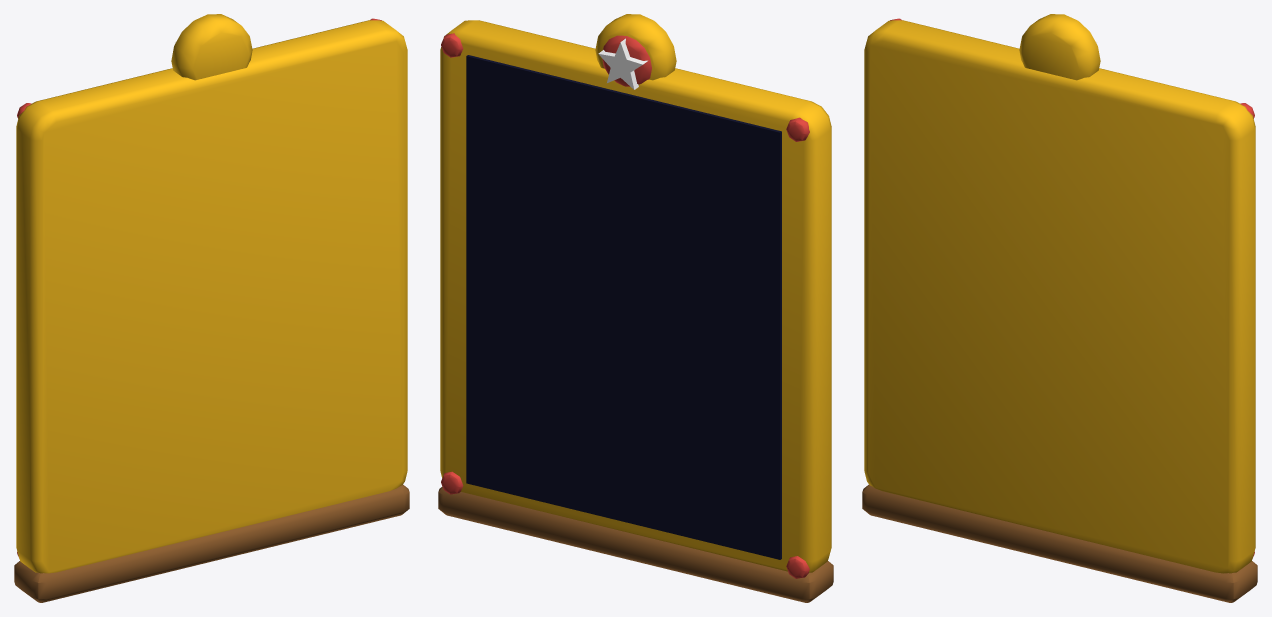
File: Hub_LeaderboardFrame.glb
3 renders of one model, left to right at view 1: azimuth 30°, elevation 25°; view 2: azimuth 150°, elevation 25°; view 3: azimuth 330°, elevation 25°, orthographic.
Parts seen in each view (by area): view 1: Frame_FFC21A, Base_8A5A2B; view 2: Face_0D0F2B, Frame_FFC21A, Base_8A5A2B, Crest_E0453C, Star_FFFFFF; view 3: Frame_FFC21A, Base_8A5A2B.
Part boxes in pixels (x1,y1,x2,y2): Frame_FFC21A: (16, 14, 407, 573); Base_8A5A2B: (14, 484, 409, 602); Face_0D0F2B: (466, 55, 781, 559); Frame_FFC21A: (440, 14, 831, 572); Base_8A5A2B: (438, 486, 833, 602); Crest_E0453C: (441, 33, 809, 578); Star_FFFFFF: (598, 38, 647, 89); Frame_FFC21A: (864, 14, 1255, 573); Base_8A5A2B: (862, 484, 1257, 602).
Bounding box in the file's own units: 12 × 16.25 × 1.6.
